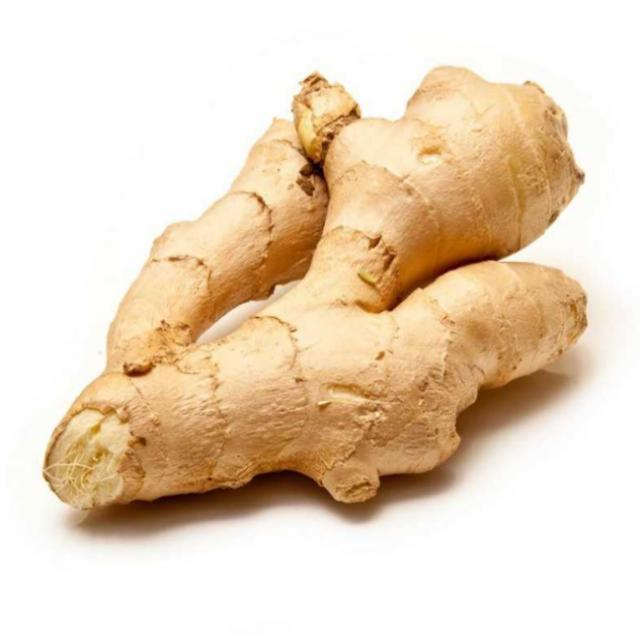ginger-root: (26, 56, 596, 530)
